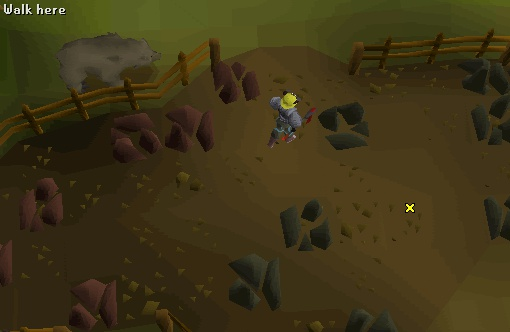coal: (305, 88, 384, 160), (271, 189, 350, 261), (215, 249, 294, 321)
iron: (92, 105, 164, 164), (152, 97, 224, 156), (1, 171, 73, 230)
